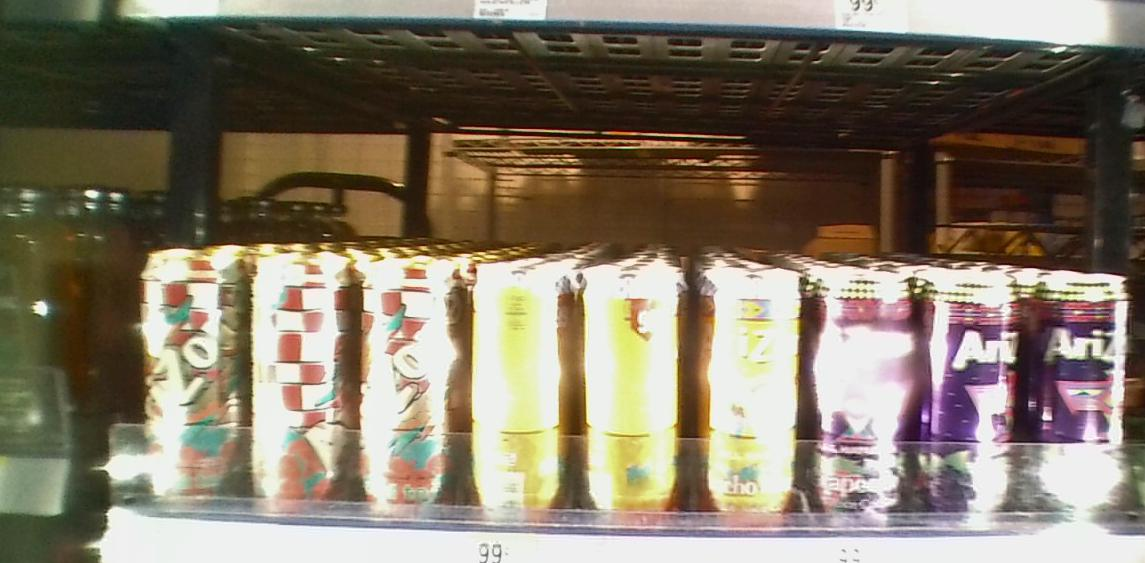bottle: (686, 263, 807, 526), (464, 252, 576, 529), (1021, 269, 1139, 529), (575, 254, 687, 526), (248, 240, 357, 508), (360, 239, 462, 522), (138, 244, 248, 504), (811, 270, 924, 519), (936, 269, 1018, 523)
